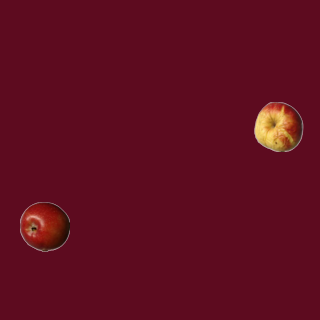Apple Braeburn: (19, 201, 69, 251)
Apple Red Yellow 1: (253, 101, 303, 151)
